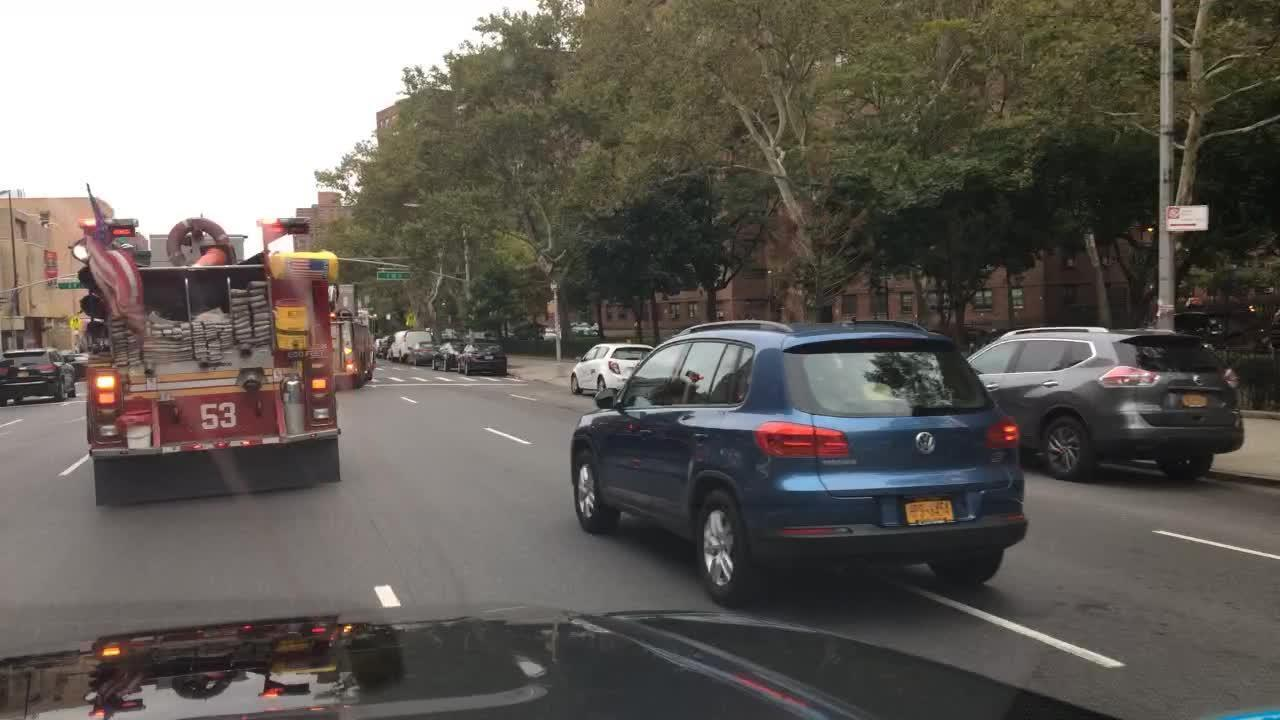Volkswagen: (910, 429, 948, 458)
